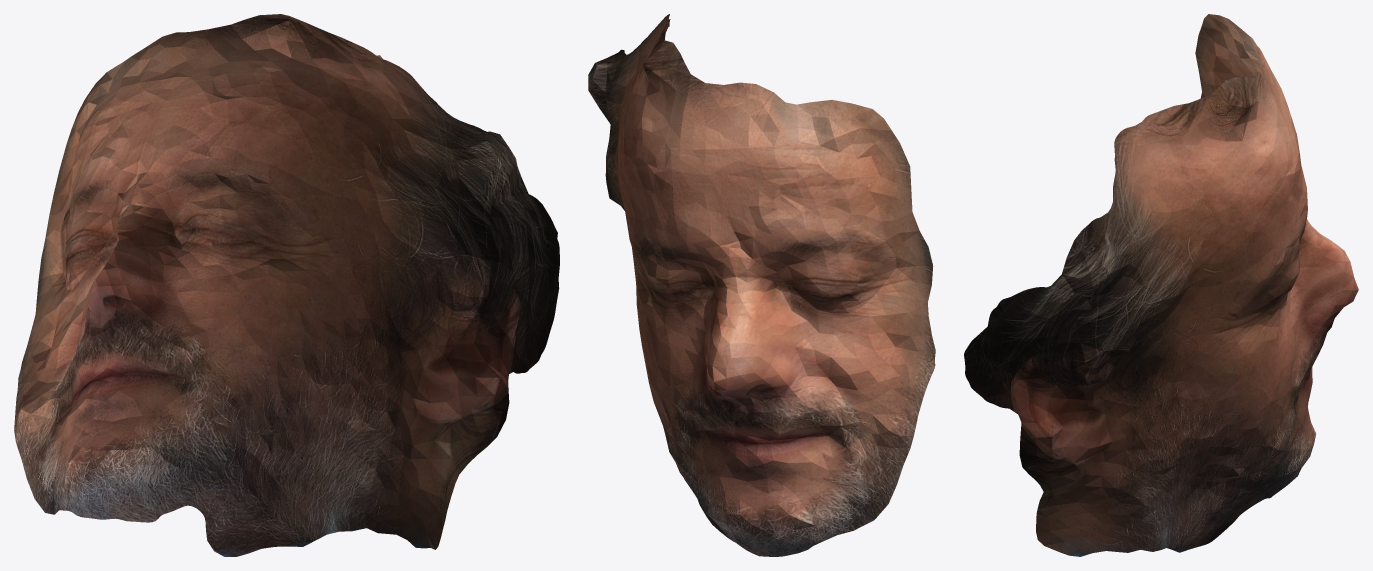
The model's file is BUSTO_102.glb.
3 renders of one model, left to right at view 1: azimuth 30°, elevation 25°; view 2: azimuth 150°, elevation 25°; view 3: azimuth 270°, elevation 25°, orthographic. The views are drawn at different scales.
Parts seen in each view (by area): view 1: Mesh_0.001; view 2: Mesh_0.001; view 3: Mesh_0.001.
Part boxes in pixels (x1=…): Mesh_0.001: x1=14, y1=14, x2=559, y2=556; Mesh_0.001: x1=588, y1=14, x2=935, y2=556; Mesh_0.001: x1=964, y1=14, x2=1358, y2=556.
Bounding box in the file's own units: 3.39 × 3.92 × 2.9.
1 material, 1 textured.
